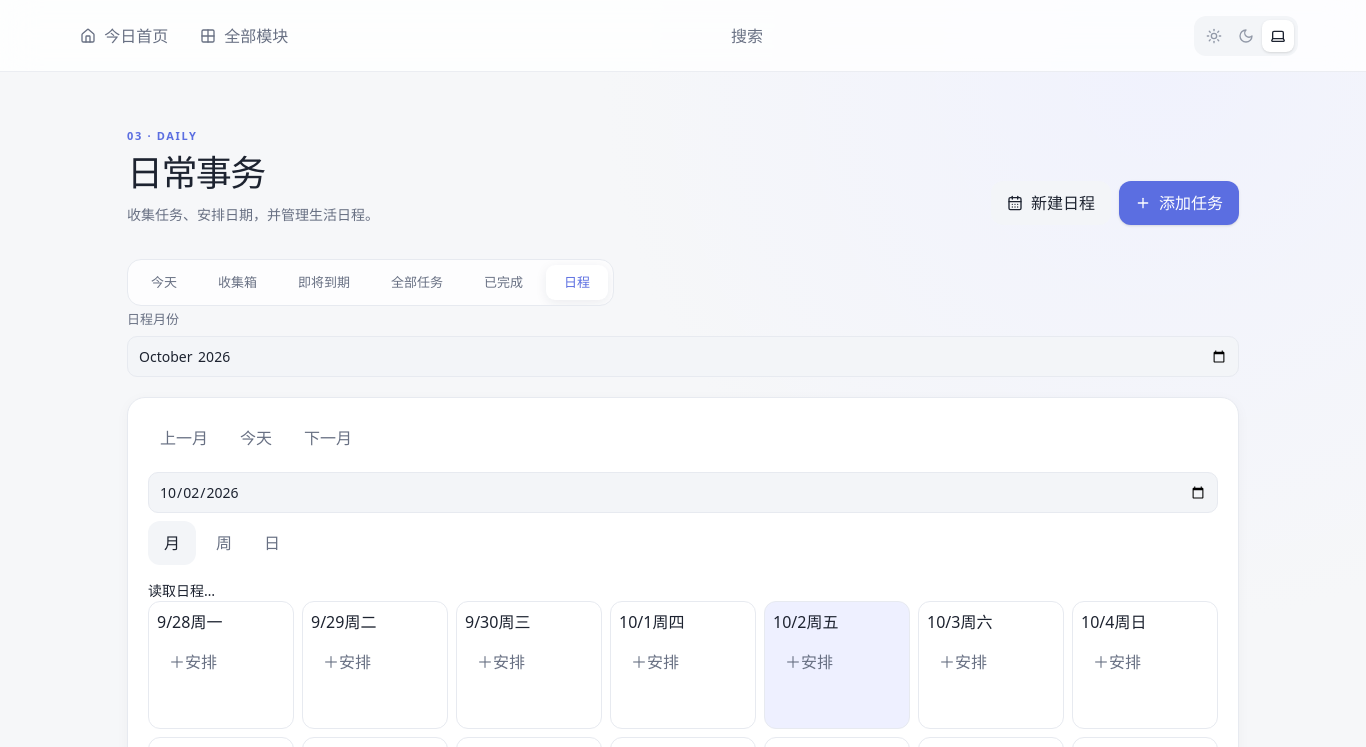
it: preserves week mode when choosing a historical month
The image size is (1366, 747).
Click the button "周" at (224, 543), box [204,521,244,565]
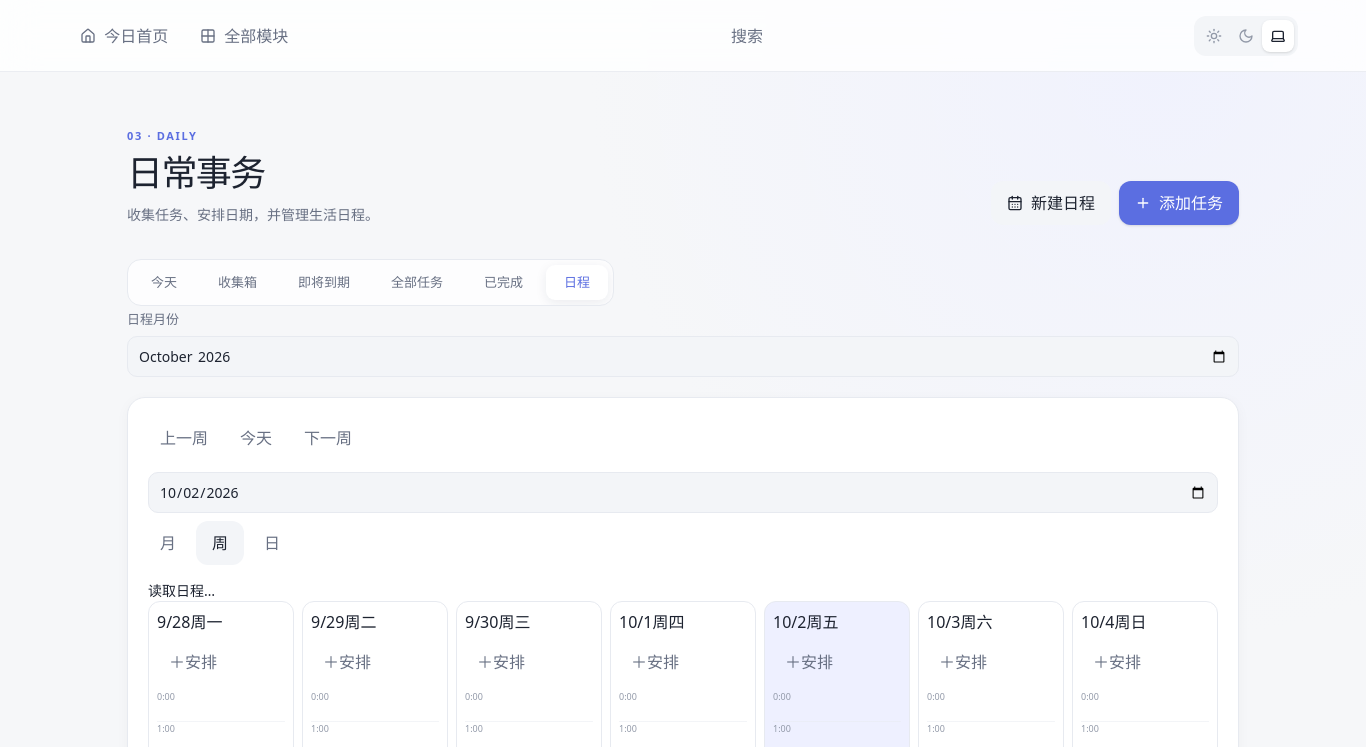
Type "2020-02-29" into the date field named "日程日期" at (683, 492), box [148,472,1218,513]
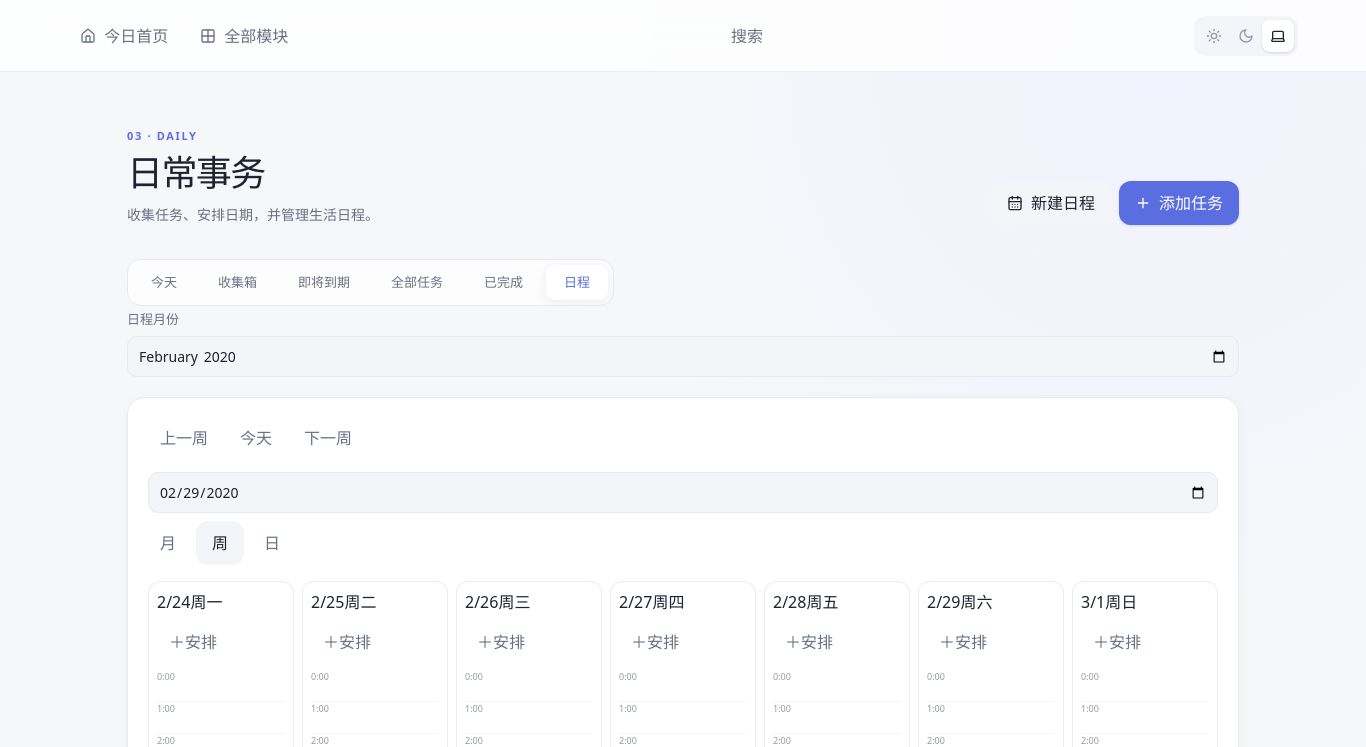
Check: the button "上一周" is shown, box [148,418,220,458]
Check: the field labelled "日程月份" holds "2020-02", box [127,336,1239,377]
